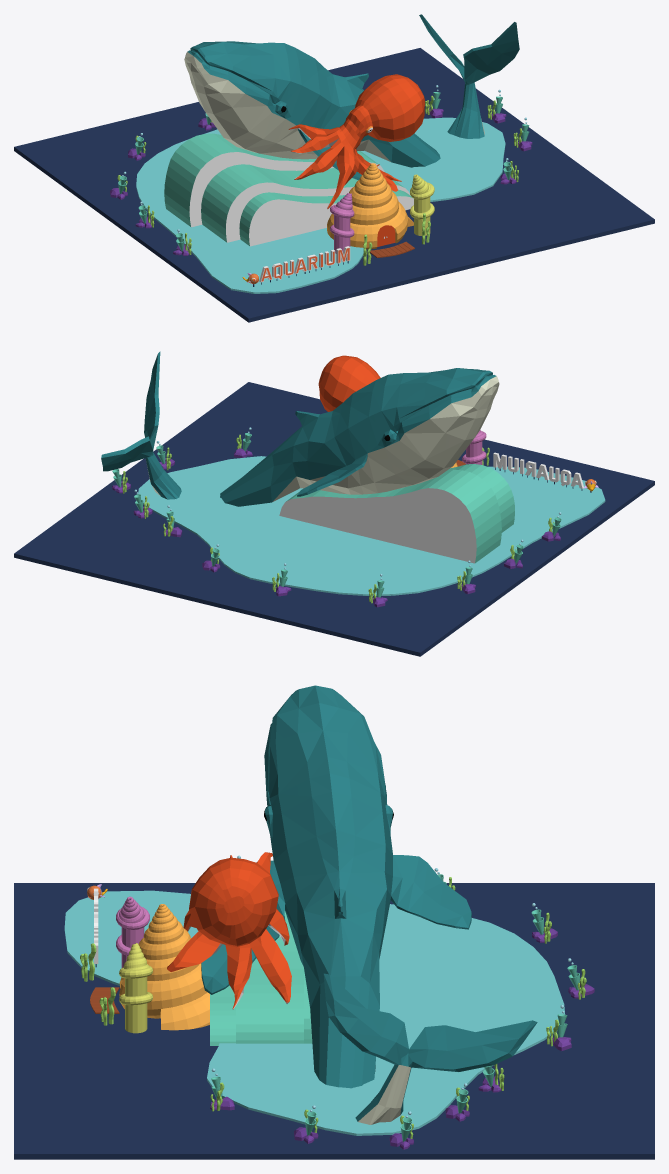
Rendered from D4_aquarium_entrance.fbx.
3 views of the same model, one above another, from view 1: azimuth 30°, elevation 25°; view 2: azimuth 150°, elevation 25°; view 3: azimuth 270°, elevation 25° (orthographic). The views are drawn at different scales.
Parts seen in each view (by area): view 1: Cube.176, Whale, Circle.032, Cylinder.128, Plane.041, Plane.042, Plane.040, Whale.001, Circle.024, Text, Torus.001, Torus.003; view 2: Cube.176, Circle.032, Whale, Plane.042, Whale.001, Cylinder.128, Plane.041, Text, Torus.003; view 3: Cube.176, Whale, Circle.032, Cylinder.128, Whale.001, Circle.024, Plane.041, Torus.001, Plane.040, Torus.003.
Part boxes in pixels (bbox=[...]): Cube.176: bbox=[14, 48, 654, 322]; Whale: bbox=[184, 41, 440, 180]; Circle.032: bbox=[136, 117, 505, 293]; Cylinder.128: bbox=[288, 74, 424, 208]; Plane.041: bbox=[201, 164, 410, 242]; Plane.042: bbox=[164, 133, 384, 227]; Plane.040: bbox=[239, 189, 413, 246]; Whale.001: bbox=[419, 14, 519, 138]; Circle.024: bbox=[327, 163, 413, 249]; Text: bbox=[259, 246, 350, 284]; Torus.001: bbox=[410, 174, 434, 235]; Torus.003: bbox=[330, 193, 354, 253]; Cube.176: bbox=[14, 382, 654, 656]; Circle.032: bbox=[138, 456, 605, 595]; Whale: bbox=[220, 368, 499, 506]; Plane.042: bbox=[279, 469, 501, 563]; Whale.001: bbox=[101, 351, 181, 499]; Cylinder.128: bbox=[318, 355, 380, 411]; Plane.041: bbox=[447, 464, 514, 532]; Text: bbox=[493, 452, 583, 490]; Torus.003: bbox=[462, 430, 486, 464]; Cube.176: bbox=[14, 883, 654, 1159]; Whale: bbox=[201, 685, 471, 1088]; Circle.032: bbox=[64, 890, 564, 1135]; Cylinder.128: bbox=[167, 852, 291, 1009]; Whale.001: bbox=[323, 973, 537, 1124]; Circle.024: bbox=[119, 904, 209, 1030]; Plane.041: bbox=[236, 911, 303, 1043]; Torus.001: bbox=[119, 943, 152, 1033]; Plane.040: bbox=[210, 985, 235, 1045]; Torus.003: bbox=[116, 896, 149, 967].
Size of the model in its own units: 7001 by 2942 by 7001.
Materials: 12 (4 with a texture image).
